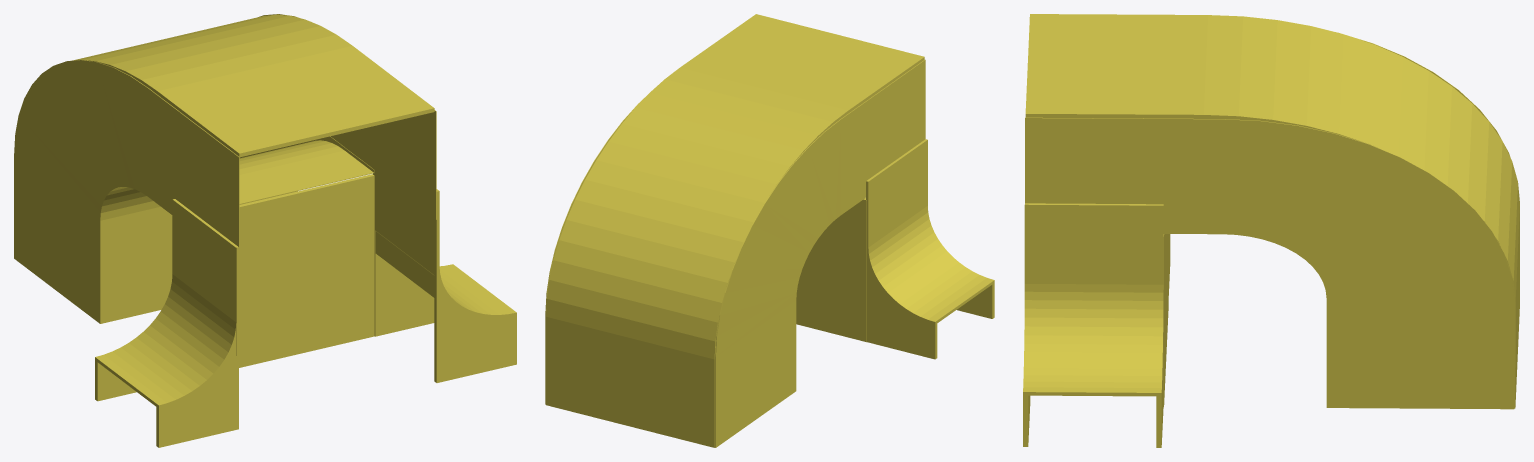
The model's file is Panduit 4x4 Spillover.glb.
The picture shows the model from 3 angles, left to right: view 1: azimuth 30°, elevation 25°; view 2: azimuth 150°, elevation 25°; view 3: azimuth 270°, elevation 25°; orthographic projection. The views are drawn at different scales.
Visible parts, largest first — view 1: Mesh_Mesh_head_geo.001_lambert2SG.001; view 2: Mesh_Mesh_head_geo.001_lambert2SG.001; view 3: Mesh_Mesh_head_geo.001_lambert2SG.001.
Boxes of the visible parts, bbox=[...] form: Mesh_Mesh_head_geo.001_lambert2SG.001: bbox=[14, 14, 516, 447]; Mesh_Mesh_head_geo.001_lambert2SG.001: bbox=[545, 14, 994, 447]; Mesh_Mesh_head_geo.001_lambert2SG.001: bbox=[1023, 14, 1519, 447].
Size of the model in its own units: 38.02 by 28.14 by 43.45.
